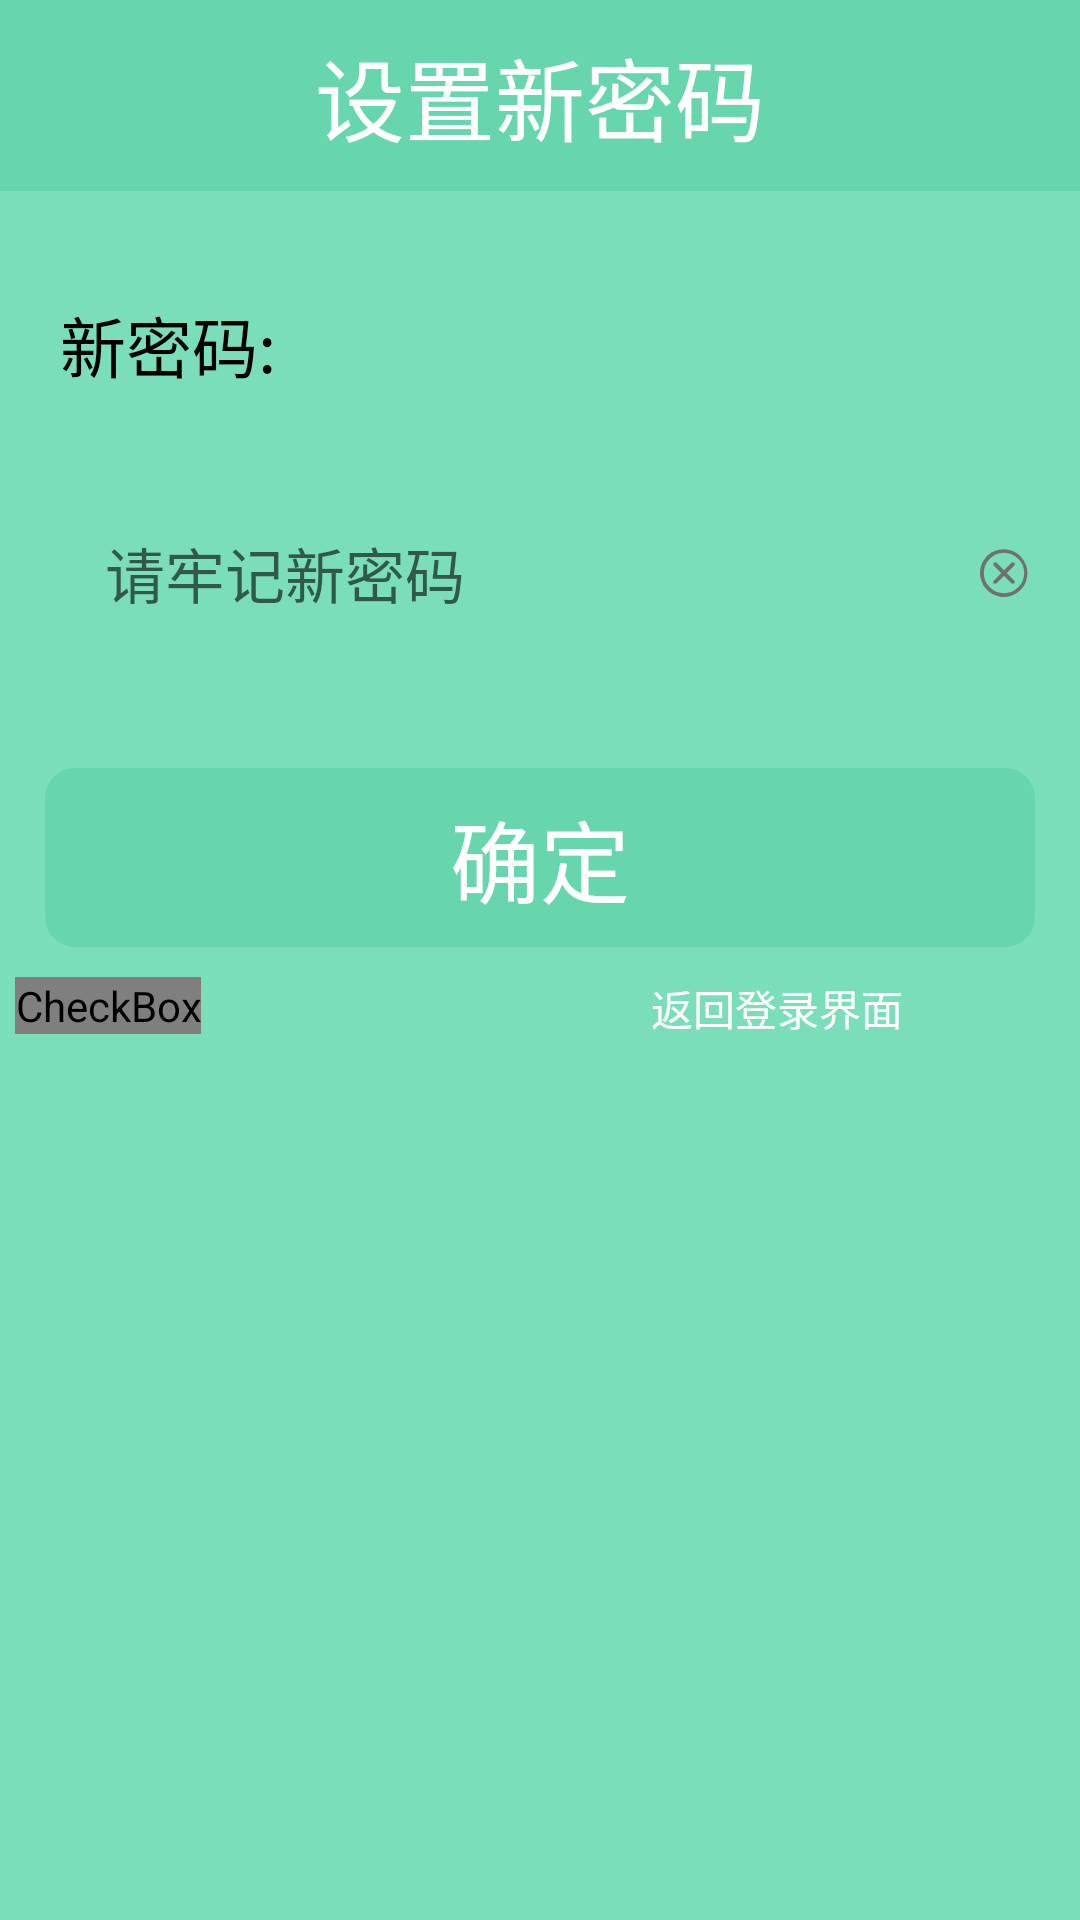

Icon bounding boxes for this 1080x1920 phone screenshot, format (x1, y1, x2, y2):
chahao: (980, 549, 1028, 597)
